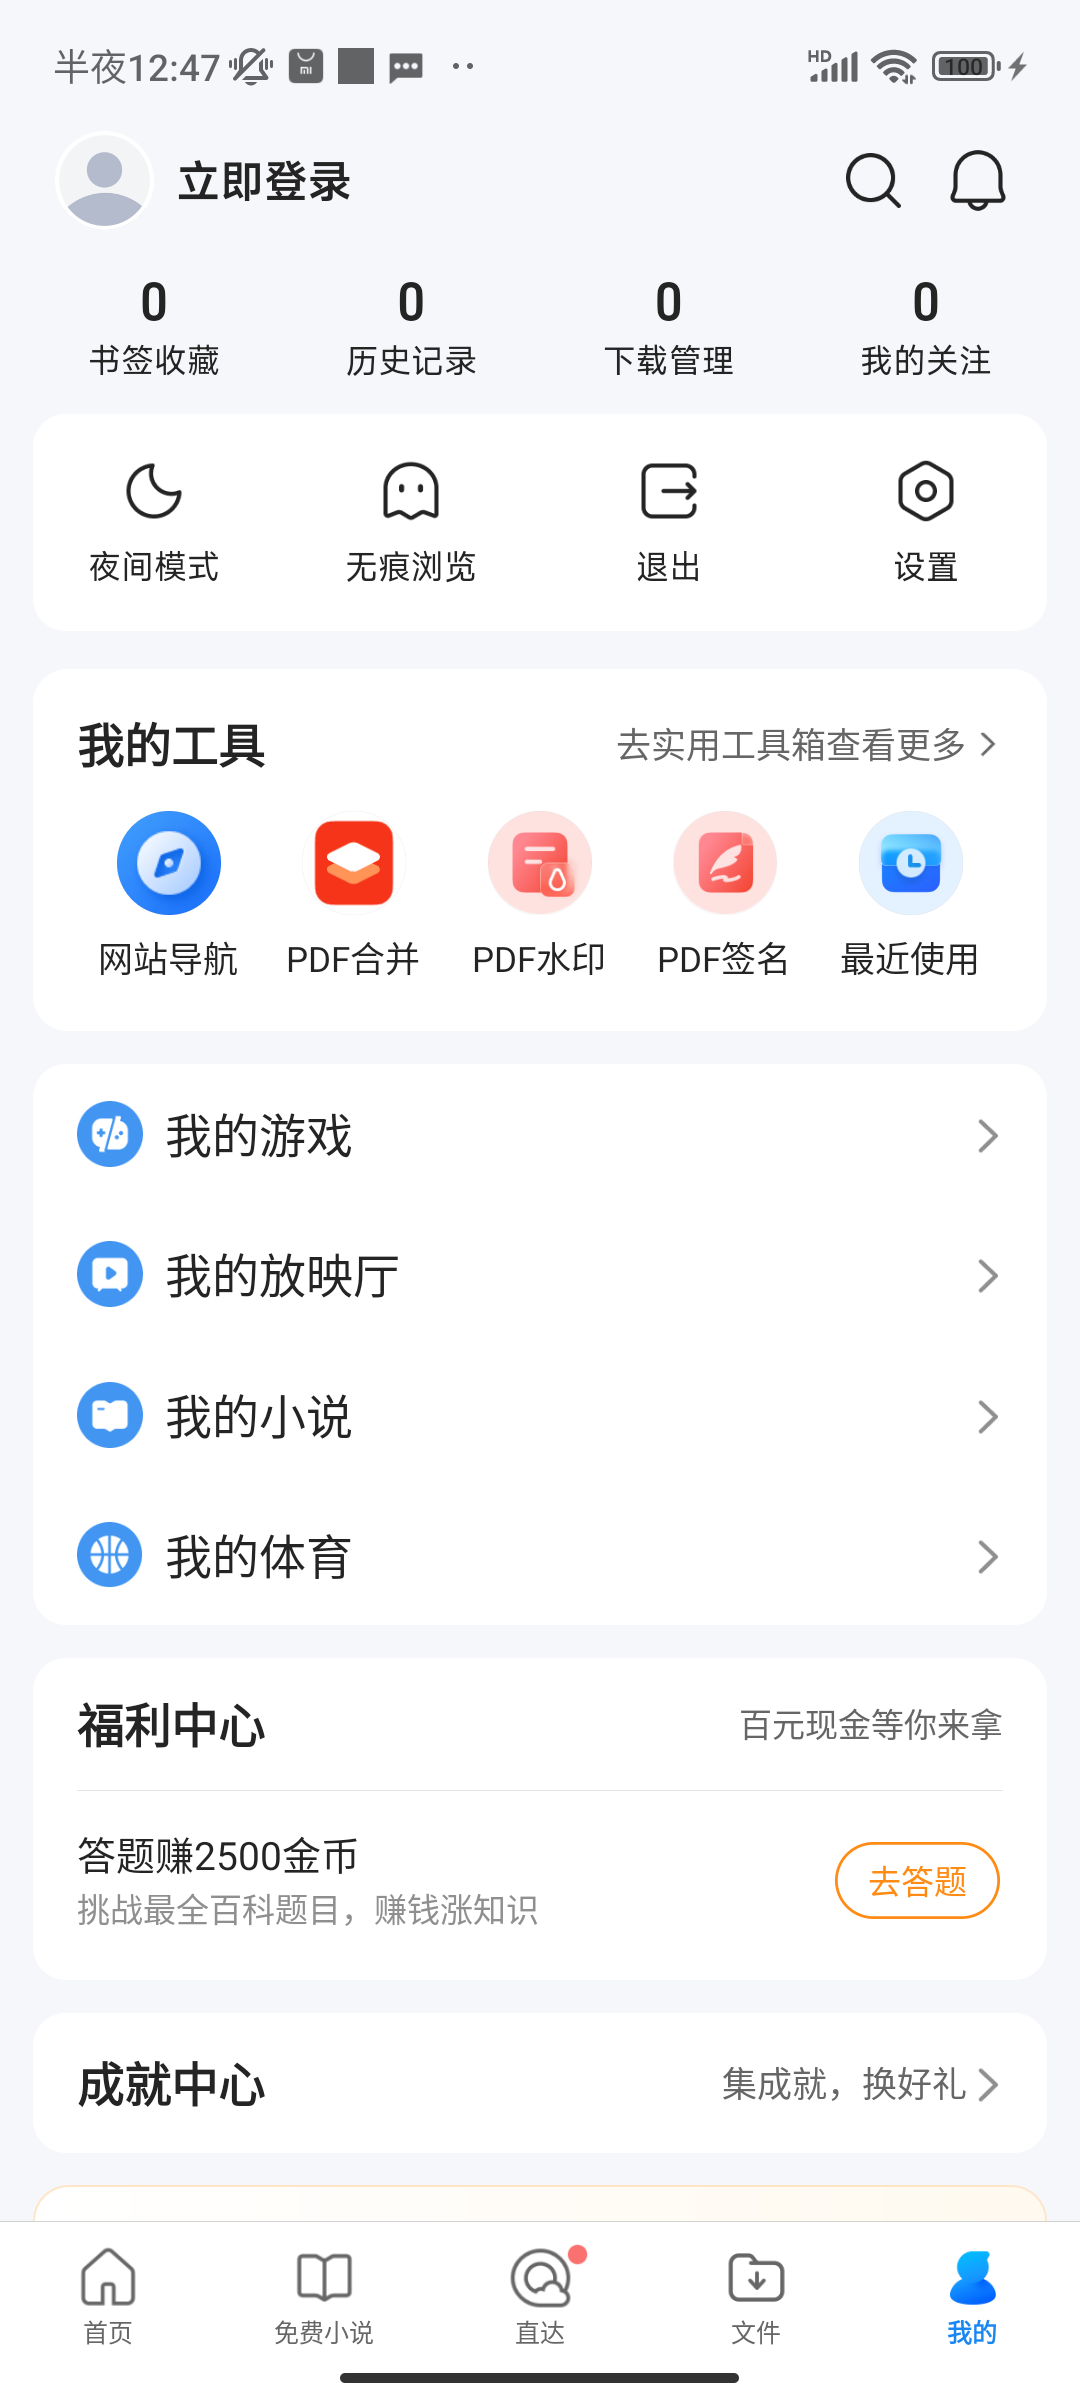ui_group: (31, 1664, 1036, 1978), (24, 2019, 1042, 2157), (60, 1198, 1023, 1327), (38, 690, 1033, 785), (67, 432, 257, 624), (78, 256, 249, 409)
